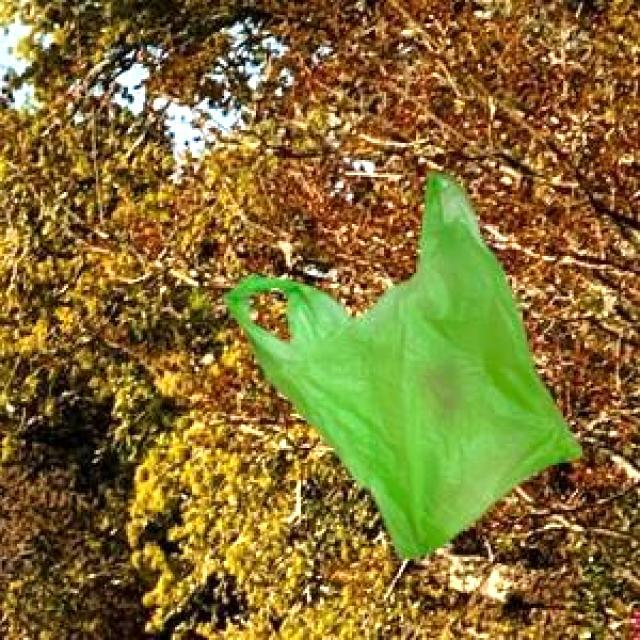Plastic_Bag: (220, 172, 580, 556)
